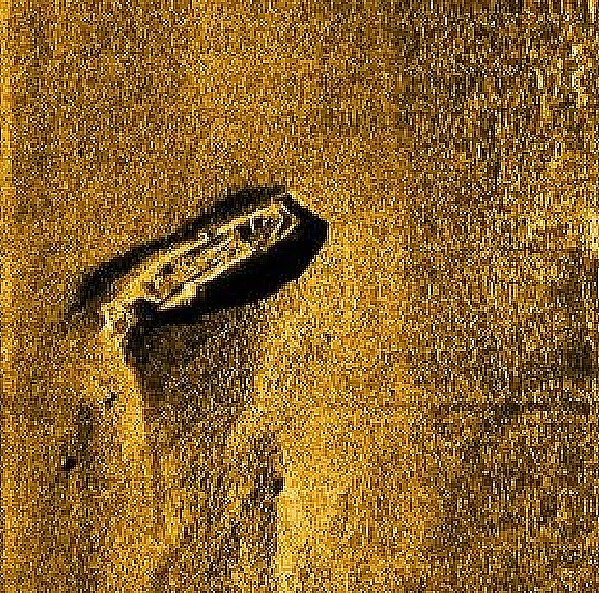ship: (96, 193, 303, 335)
